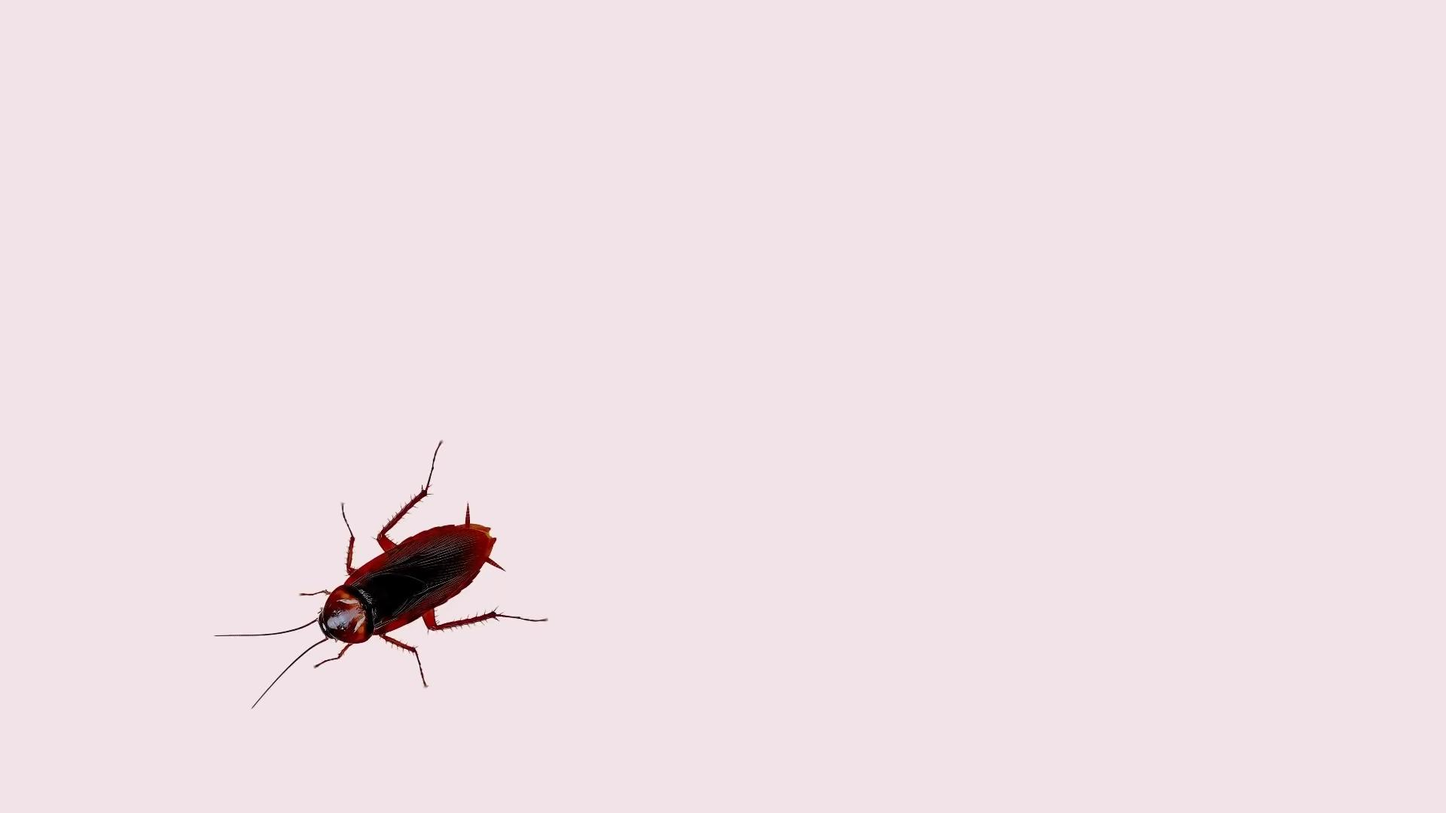cockroach: (204, 463, 546, 711)
